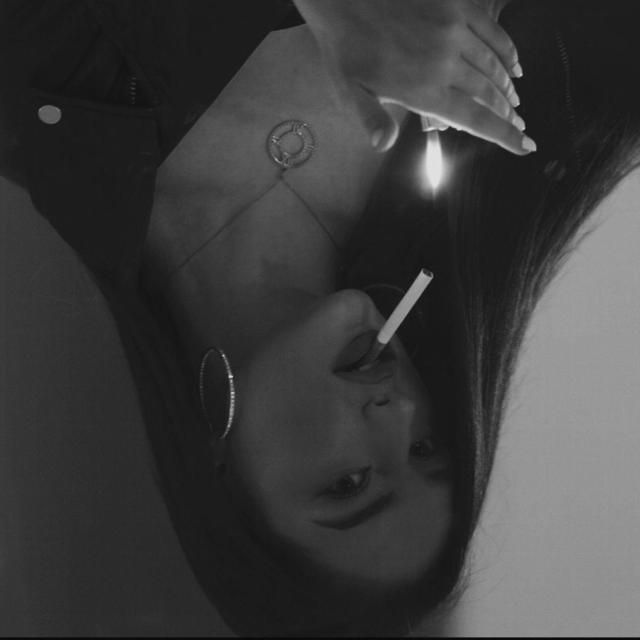smoke: (352, 252, 449, 374)
